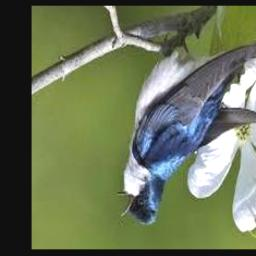Swallow: (117, 35, 256, 226)
